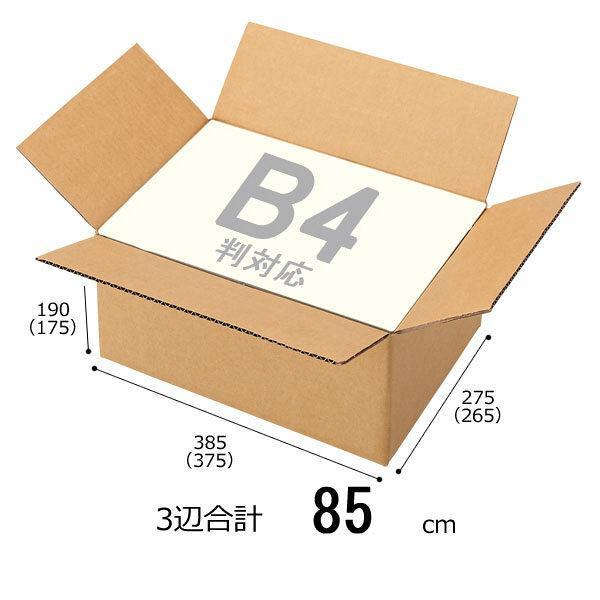box: (27, 18, 582, 467)
